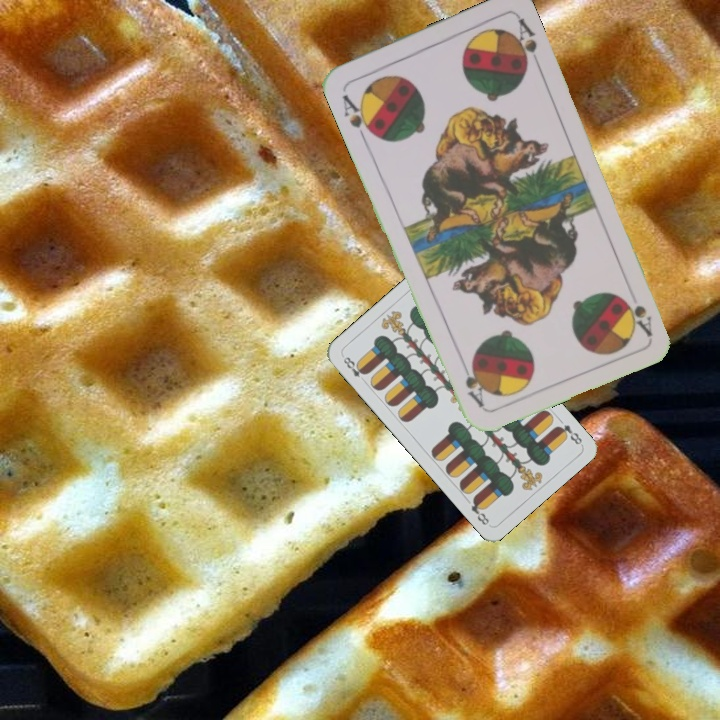E8: (338, 352, 370, 386), (552, 420, 585, 447)
SA: (338, 90, 378, 143), (619, 292, 655, 338)
